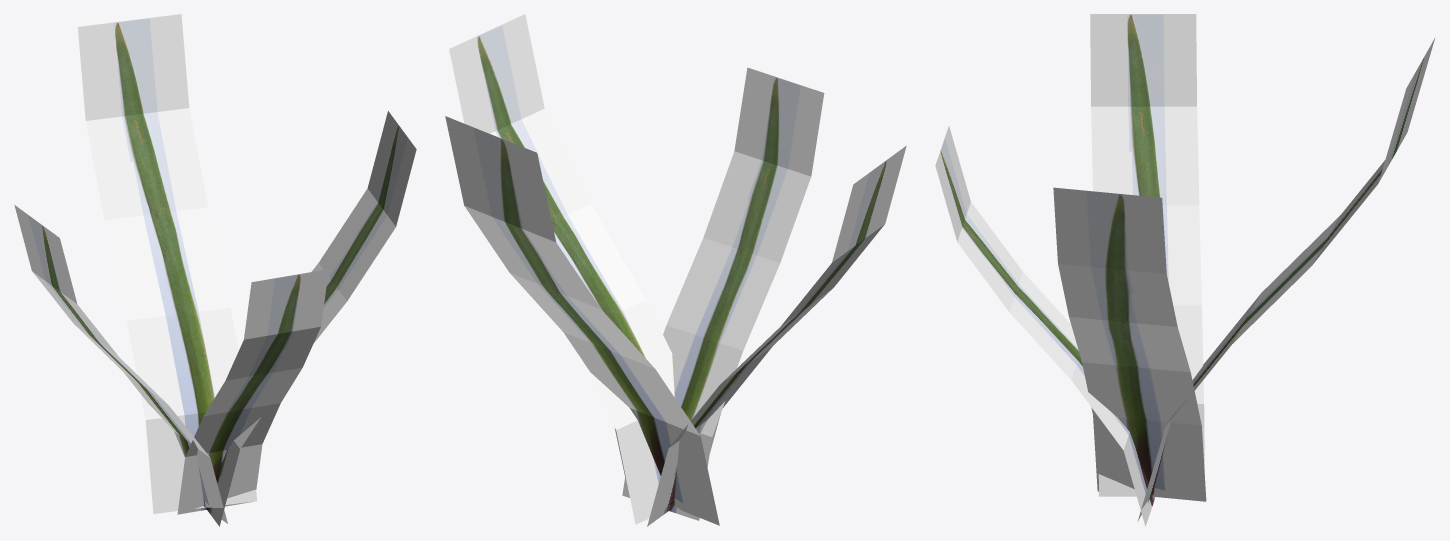
The model's file is Plant1.fbx.
3 renders of one model, left to right at view 1: azimuth 30°, elevation 25°; view 2: azimuth 150°, elevation 25°; view 3: azimuth 270°, elevation 25°, orthographic. The views are drawn at different scales.
Visible parts, largest first — view 1: Plant1; view 2: Plant1; view 3: Plant1.
Part boxes in pixels (<box>): Plant1: <box>14,14,416,526</box>; Plant1: <box>445,14,906,526</box>; Plant1: <box>935,14,1435,526</box>.
Bounding box in the file's own units: 98.73 × 104 × 102.
